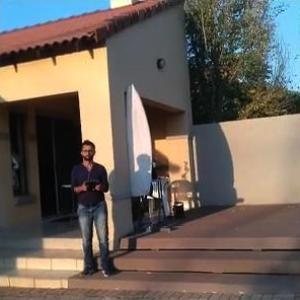follow: (70, 135, 117, 279)
